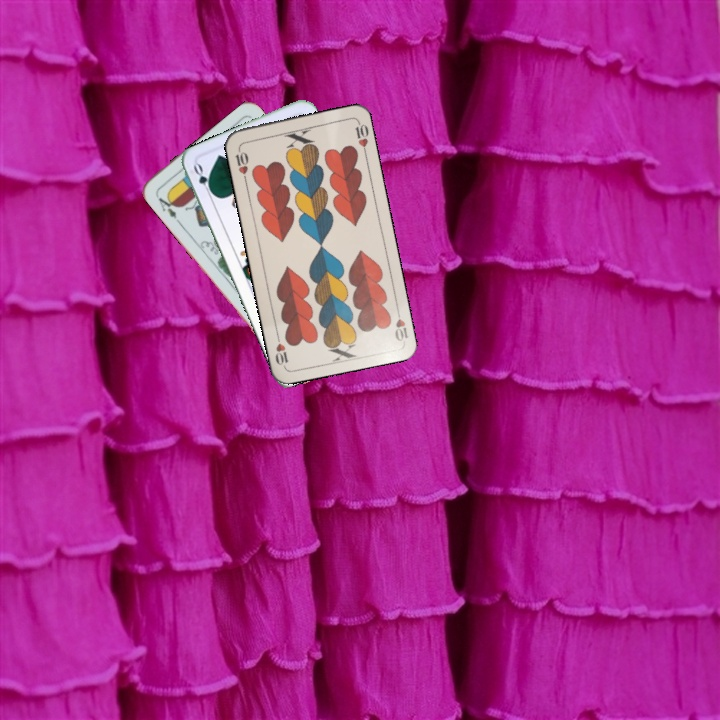EA: (152, 190, 182, 225)
GO: (189, 160, 217, 199)
H10: (231, 143, 251, 184), (391, 303, 410, 344)
